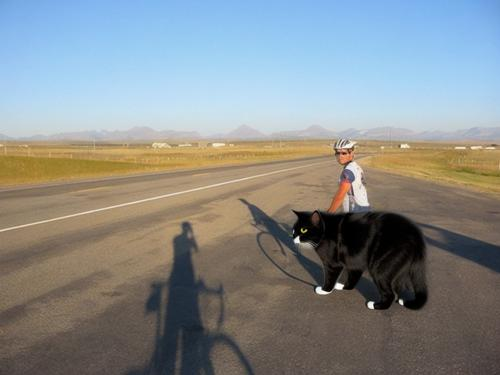cat: (291, 211, 429, 310)
person: (323, 141, 370, 308)
person/foot: (331, 296, 354, 305)
person/hand: (322, 213, 333, 223)
person/head: (334, 139, 354, 163)
